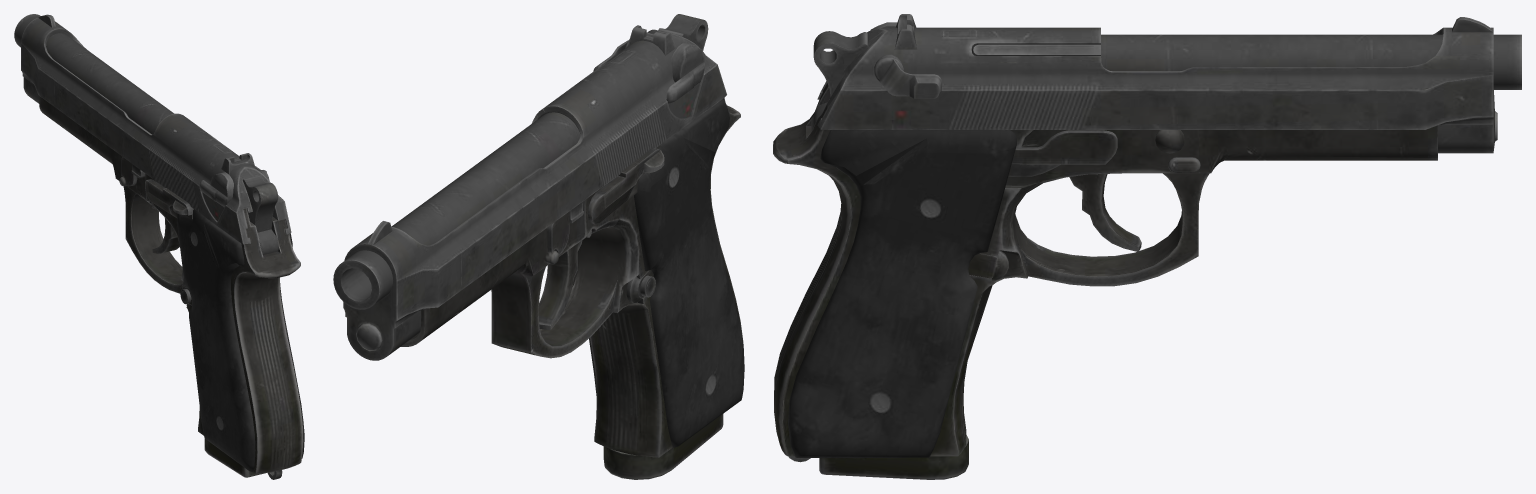
File: pistol_9.glb
3 views of the same model, side by side, from view 1: azimuth 30°, elevation 25°; view 2: azimuth 150°, elevation 25°; view 3: azimuth 270°, elevation 25° (orthographic). The views are drawn at different scales.
Parts seen in each view (by area): view 1: slide, body; view 2: slide, body; view 3: slide, body.
Part boxes in pixels (<box>): slide: <box>14,14,300,273</box>; body: <box>52,120,304,479</box>; slide: <box>333,14,740,359</box>; body: <box>357,112,744,479</box>; slide: <box>776,14,1521,183</box>; body: <box>773,128,1493,479</box>.
Bounding box in the file's own units: 0.0324 × 0.1434 × 0.217.
1 material, 1 textured.
